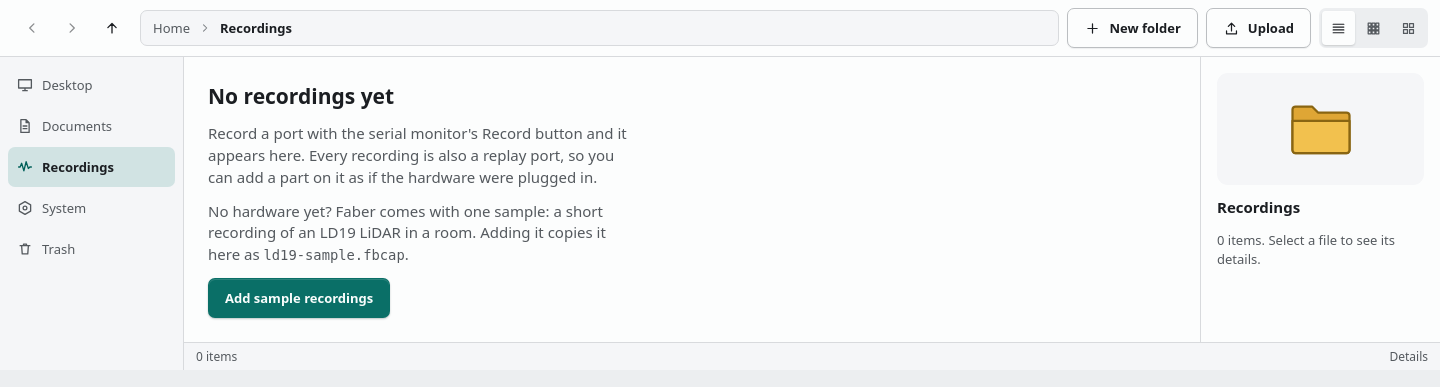
Test: Files › offers the sample recording in an empty Recordings folder
Expected: the heading "No recordings yet" is shown, [208,81,394,111]
Click the button "Add sample recordings". click: (299,298)
box: [208,278,390,318]
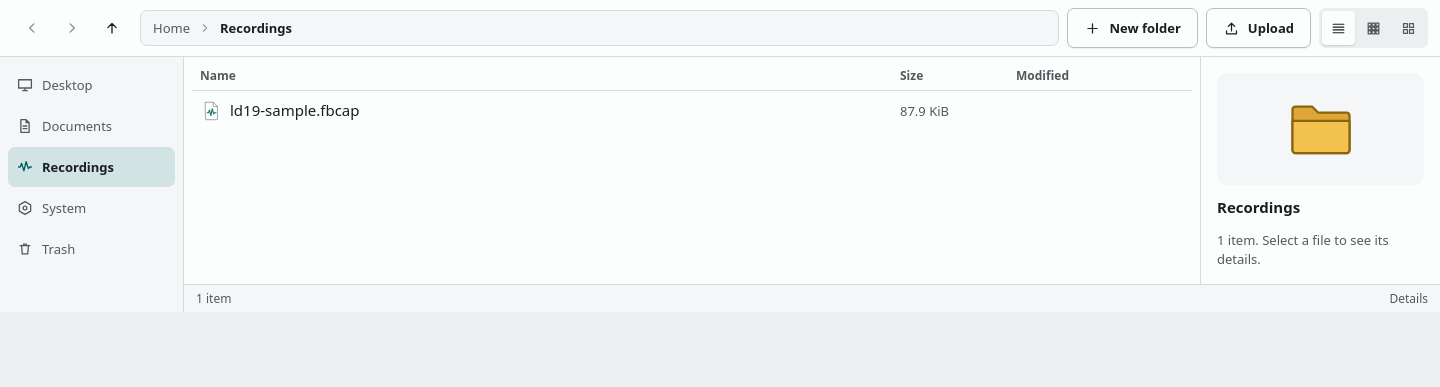
Expected: the option "ld19-sample.fbcap 87.9 KiB" is shown, [200,100,949,122]
